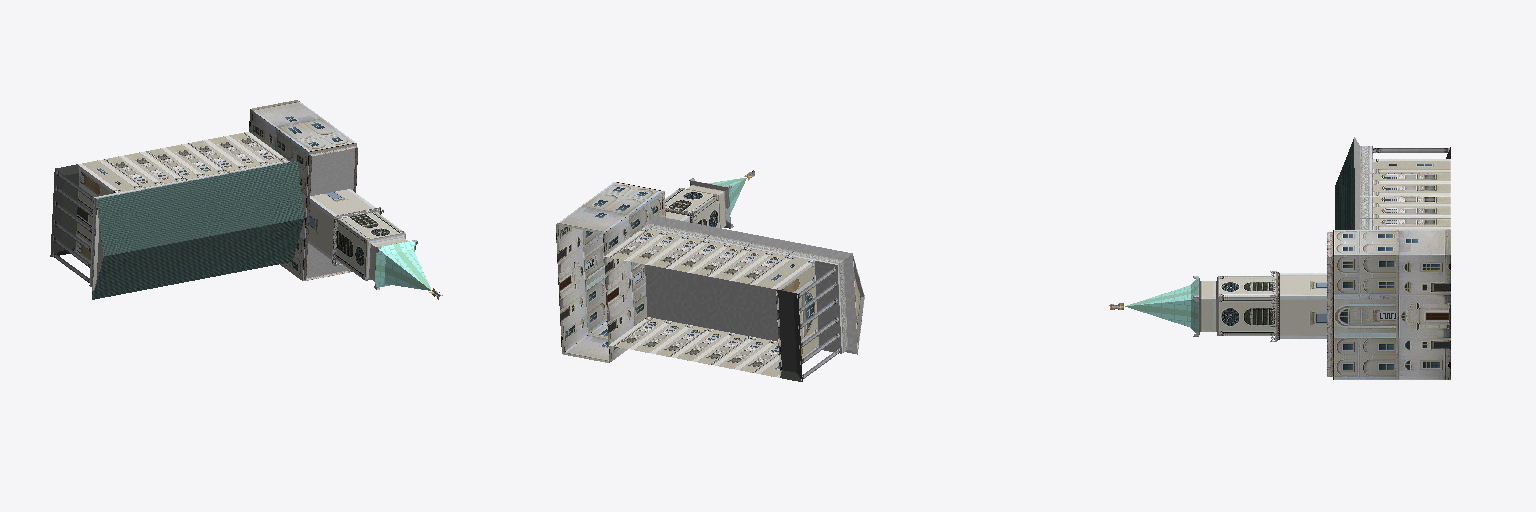
3 views of the same model, side by side, from view 1: azimuth 30°, elevation 25°; view 2: azimuth 150°, elevation 25°; view 3: azimuth 270°, elevation 25° (orthographic).
Parts seen in each view (by area): view 1: DEU_047_KARLSRUHE_EVANGEL_S002; view 2: DEU_047_KARLSRUHE_EVANGEL_S002; view 3: DEU_047_KARLSRUHE_EVANGEL_S002.
Boxes of the visible parts, <box> form: DEU_047_KARLSRUHE_EVANGEL_S002: <box>50,100,442,299</box>; DEU_047_KARLSRUHE_EVANGEL_S002: <box>556,170,864,381</box>; DEU_047_KARLSRUHE_EVANGEL_S002: <box>1109,137,1450,379</box>.
Bounding box in the file's own units: 59.6 × 29.24 × 69.44.
1 materials, 1 textured.